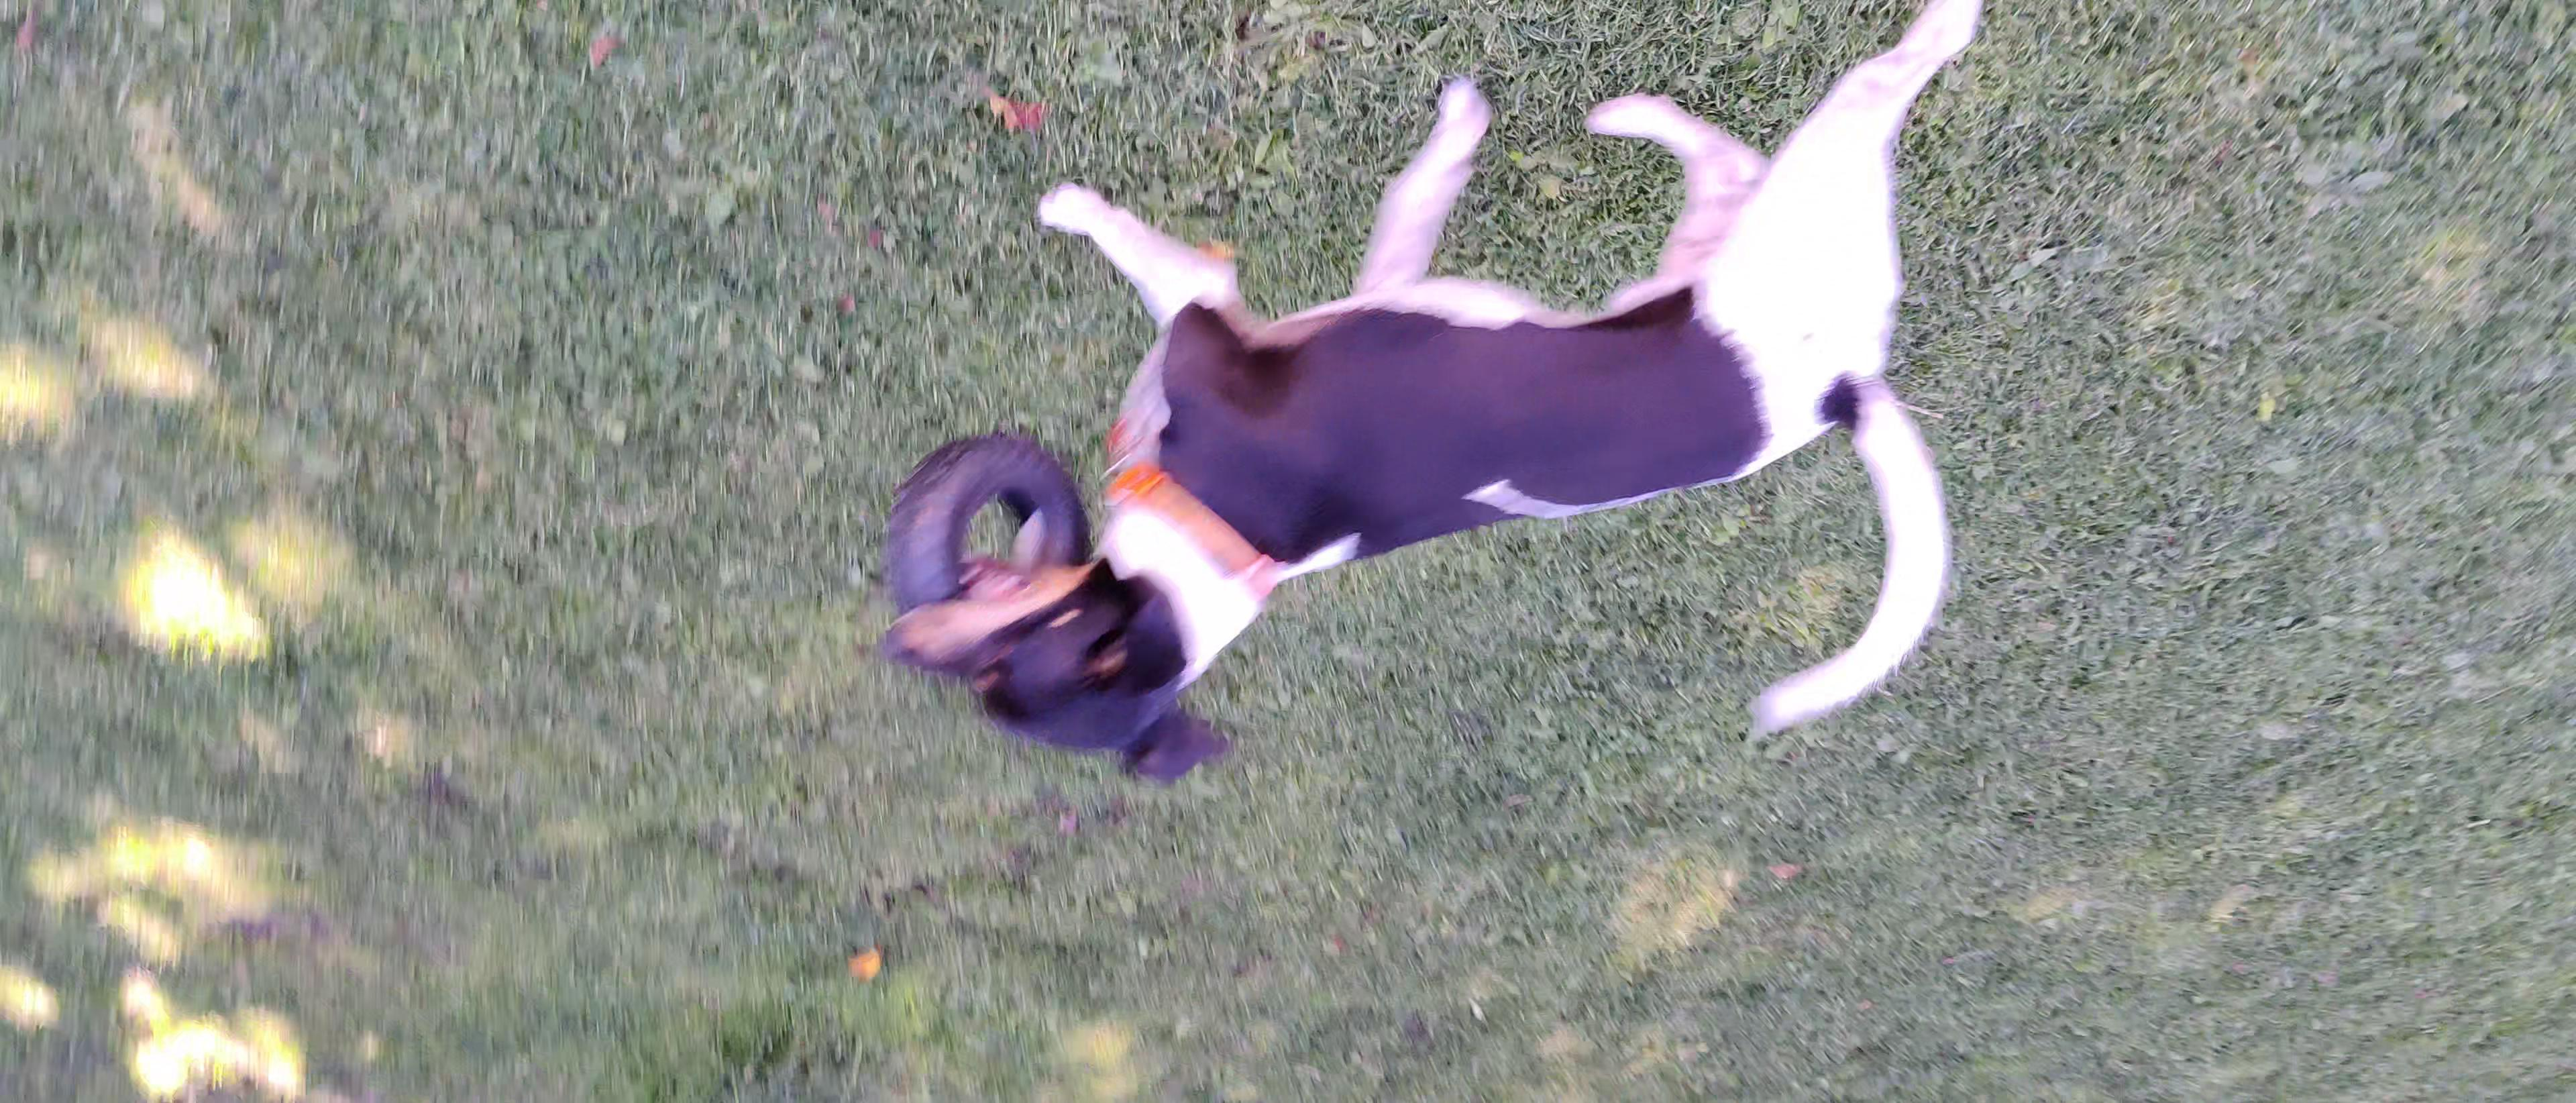Dog: (859, 0, 1993, 796)
